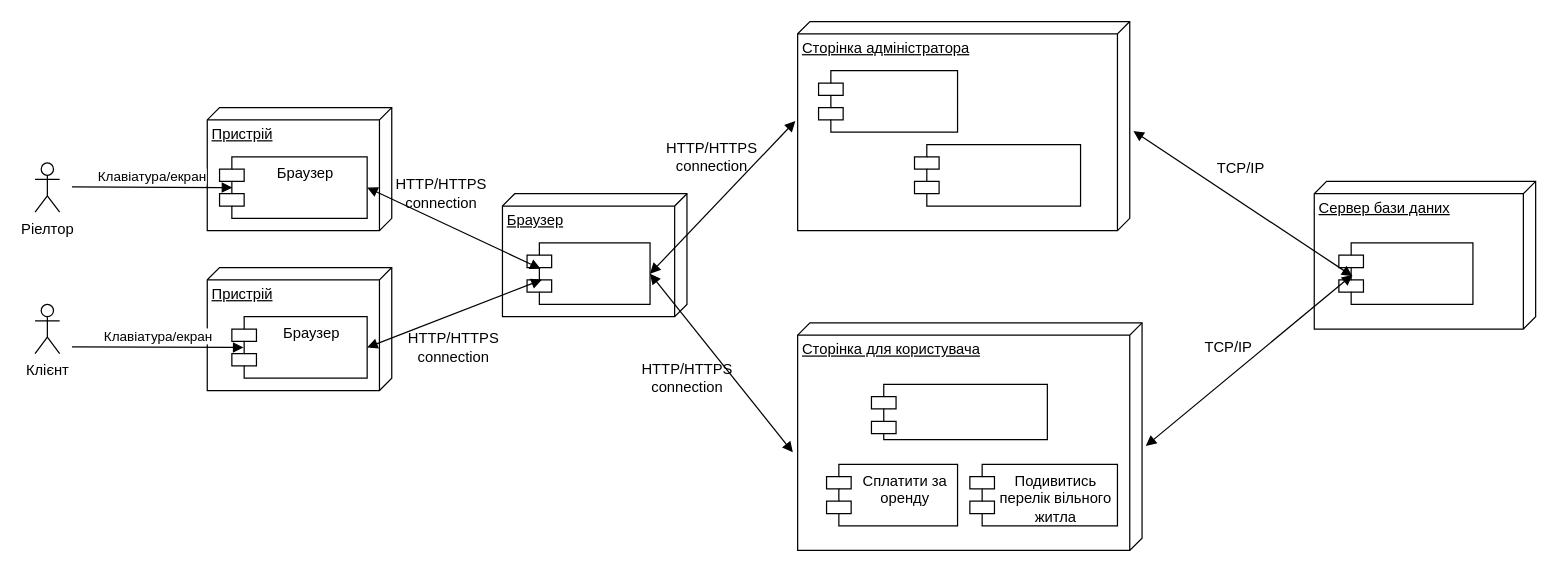
This 1557x572 diagram has some shape labels left out. Each missing label, with the centre of its shape:
"Авторизація" belongs at pixel 588 273.
"База даних" belongs at pixel 1405 273.
"Додати інформацію про житло до БД" belongs at pixel 887 100.
"Надіслати вимоги до житла" belongs at pixel 958 411.
"Підібрати житло за вимогами" belongs at pixel 997 174.
